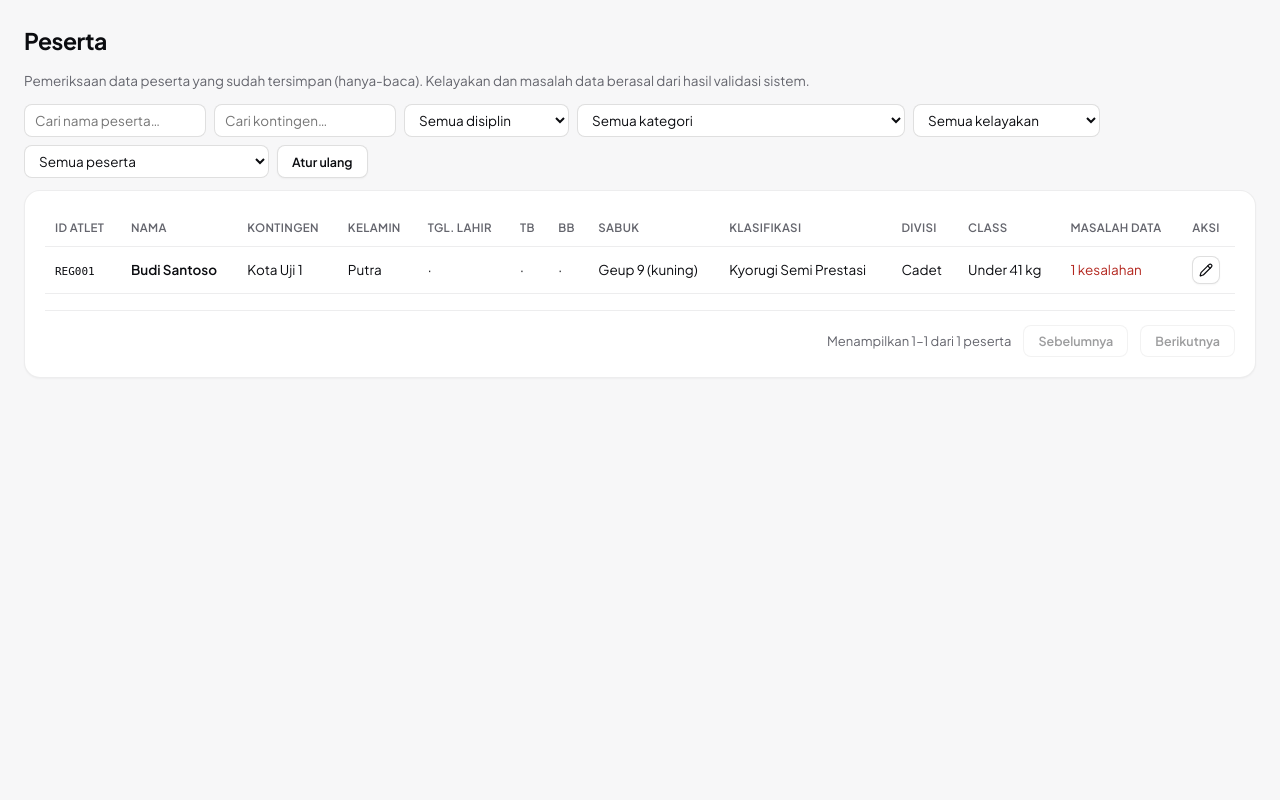
Test: PesertaPage › shows the validation issues in plain Indonesian (no raw codes), and offers Perbaiki to fix them
Expected: the button named "Perbaiki data Budi Santoso" is shown, [1192,256,1220,284]
Step 1. Click the button "1 kesalahan" → [1106, 270], box [1066,258,1146,282]
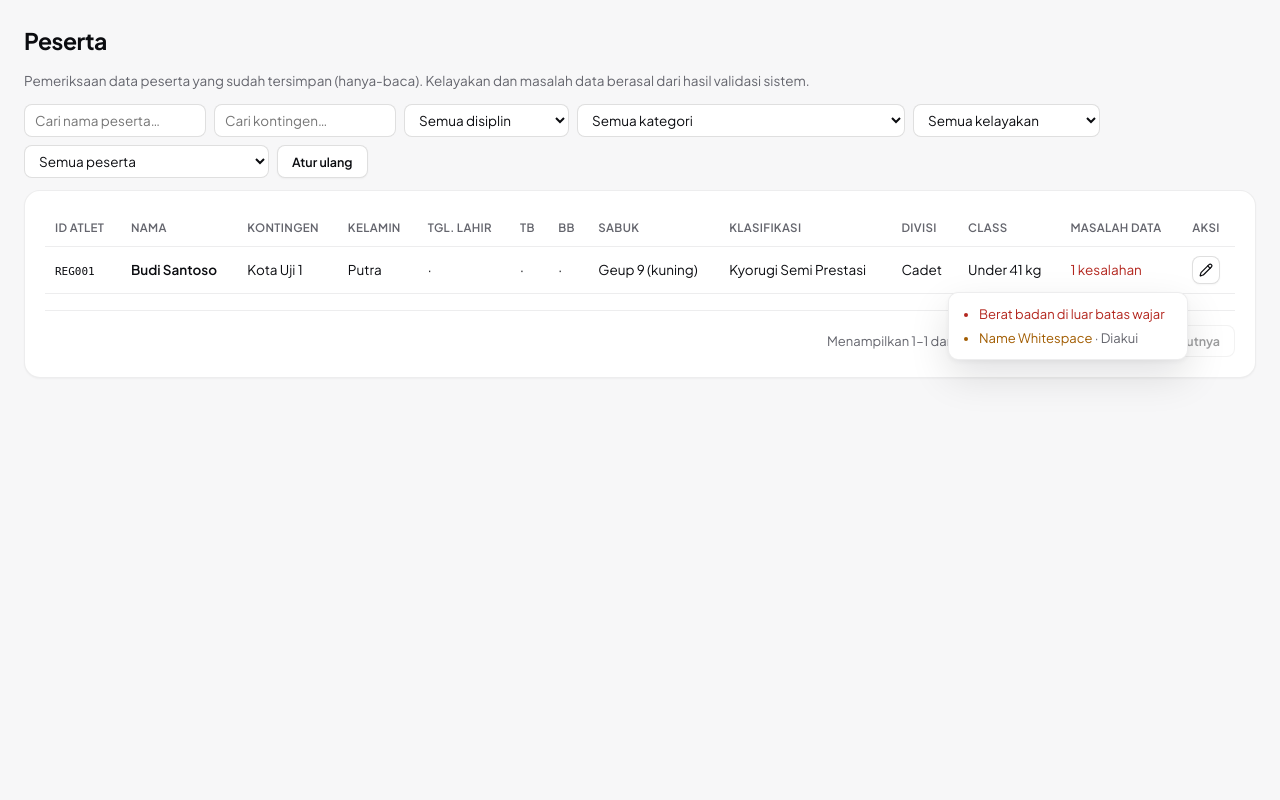
Now the list item "Berat badan di luar batas wajar" is shown, box [979,305,1173,323]
Now the text "· Diakui" is shown, box [1092,330,1138,346]
